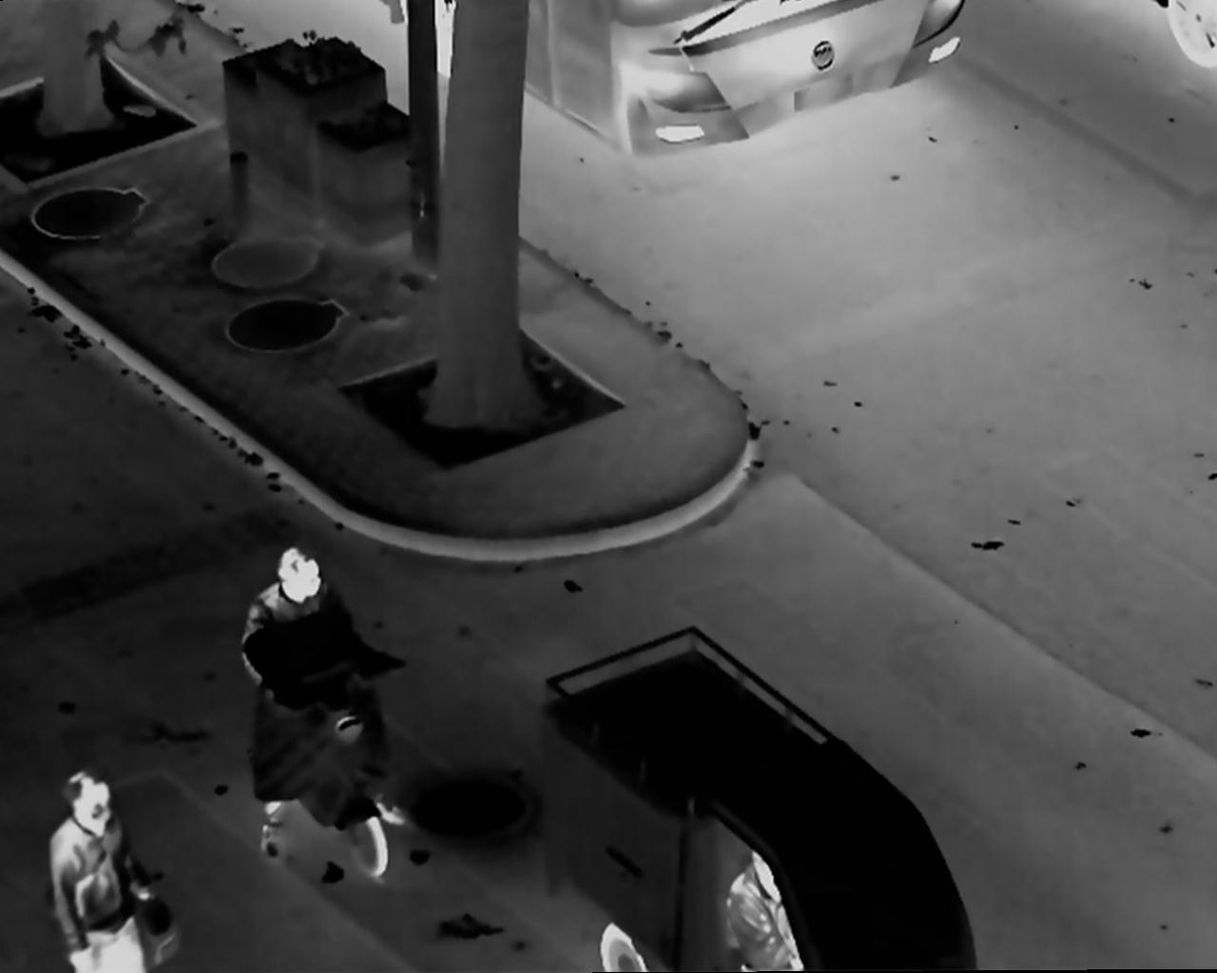person: (235, 536, 427, 864), (46, 766, 178, 973), (721, 850, 810, 973)
